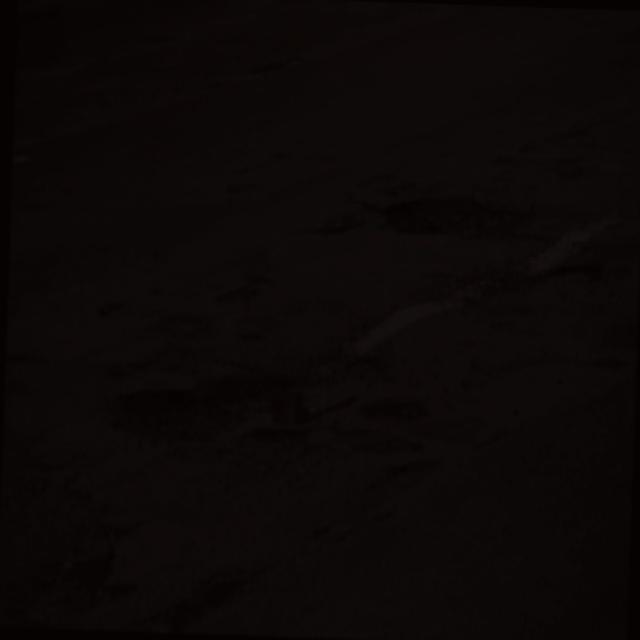Pothole: (99, 362, 330, 464), (437, 364, 631, 431), (23, 511, 132, 625), (361, 183, 531, 250), (131, 564, 257, 640)
